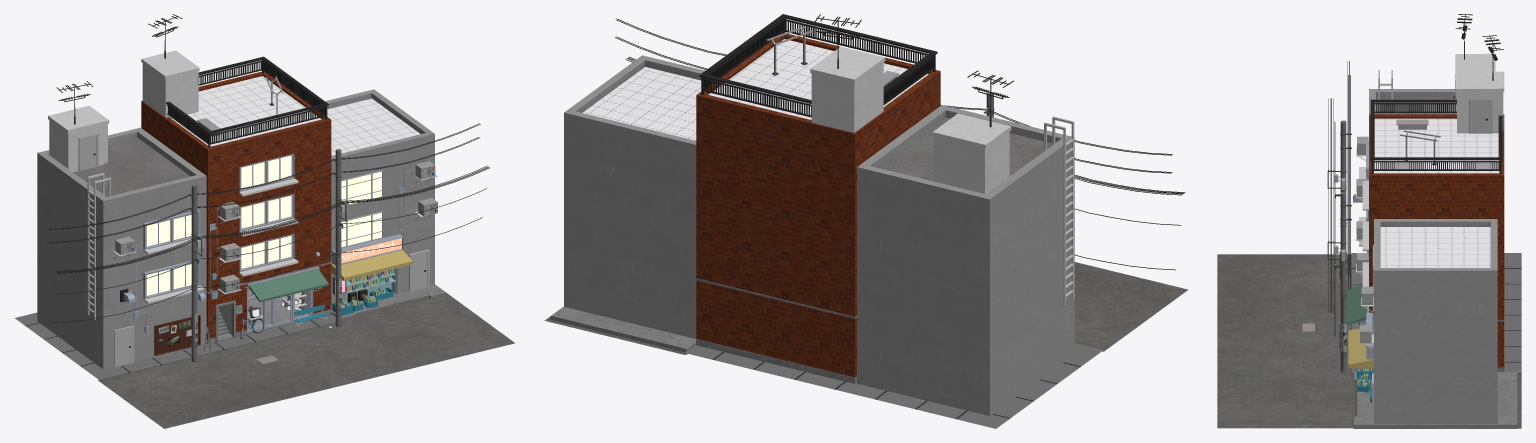
3 views of the same model, side by side, from view 1: azimuth 30°, elevation 25°; view 2: azimuth 150°, elevation 25°; view 3: azimuth 270°, elevation 25° (orthographic). The views are drawn at different scales.
Visible parts, largest first — view 1: Builds:pCube153, Road:pPlane1, Lab:polySurface123polySurface160, Builds:pCube125, polySurface291, Lab:pCube144polySurface149, polySurface359, polySurface130, polySurface132, polySurface350, polySurface348, polySurface346 (+15 smaller); view 2: Builds:pCube153, Lab:polySurface123polySurface160, Builds:pCube125, Road:pPlane1, polySurface291, Lab:pCube144polySurface149, polySurface359, Road:pCube128, polySurface128, Lab:polySurface123polySurface162; view 3: Road:pPlane1, Builds:pCube125, Lab:polySurface123polySurface160, polySurface291, Road:pCube128, Lab:pCube144polySurface149, Builds:pCube153, polySurface262, Lab:polySurface150, polySurface359, polySurface333, polySurface311 (+3 smaller).
Part boxes in pixels (bbox=[...]): Builds:pCube153: bbox=[37, 127, 206, 369]; Road:pPlane1: bbox=[15, 288, 514, 428]; Lab:polySurface123polySurface160: bbox=[141, 71, 331, 341]; Builds:pCube125: bbox=[325, 89, 434, 309]; polySurface291: bbox=[166, 56, 328, 147]; Lab:pCube144polySurface149: bbox=[141, 50, 199, 118]; polySurface359: bbox=[48, 106, 109, 172]; polySurface130: bbox=[143, 259, 200, 298]; polySurface132: bbox=[143, 210, 200, 249]; polySurface350: bbox=[239, 153, 294, 191]; polySurface348: bbox=[239, 193, 294, 231]; polySurface346: bbox=[239, 233, 294, 271]; Builds:pCube153: bbox=[857, 105, 1074, 415]; Lab:polySurface123polySurface160: bbox=[696, 33, 940, 377]; Builds:pCube125: bbox=[564, 55, 704, 338]; Road:pPlane1: bbox=[544, 262, 1187, 428]; polySurface291: bbox=[699, 14, 937, 117]; Lab:pCube144polySurface149: bbox=[810, 46, 885, 132]; polySurface359: bbox=[932, 113, 1011, 194]; Road:pCube128: bbox=[550, 306, 695, 354]; polySurface128: bbox=[1044, 116, 1074, 305]; Lab:polySurface123polySurface162: bbox=[696, 339, 856, 383]; Road:pPlane1: bbox=[1217, 253, 1521, 428]; Builds:pCube125: bbox=[1374, 219, 1497, 423]; Lab:polySurface123polySurface160: bbox=[1369, 114, 1504, 367]; polySurface291: bbox=[1370, 99, 1502, 173]; Road:pCube128: bbox=[1353, 372, 1517, 428]; Lab:pCube144polySurface149: bbox=[1456, 71, 1504, 133]; Builds:pCube153: bbox=[1369, 89, 1455, 114]; polySurface262: bbox=[1340, 192, 1346, 372]; Lab:polySurface150: bbox=[1469, 99, 1492, 133]; polySurface359: bbox=[1455, 53, 1495, 114]; polySurface333: bbox=[1348, 328, 1373, 369]; polySurface311: bbox=[1346, 284, 1367, 325].
Size of the model in its own units: 20.68 by 12.66 by 12.4.
4 materials, 4 textured.
